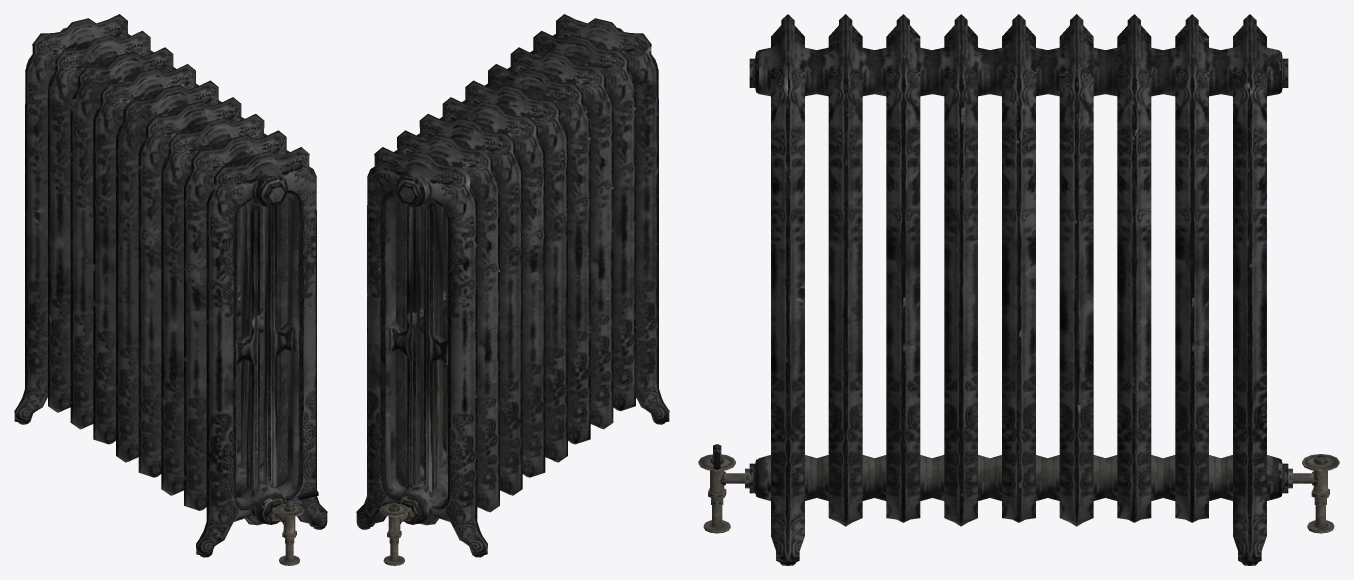
The model's file is SM_Radiator.fbx.
3 renders of one model, left to right at view 1: azimuth 30°, elevation 25°; view 2: azimuth 150°, elevation 25°; view 3: azimuth 270°, elevation 25°, orthographic. The views are drawn at different scales.
Parts seen in each view (by area): view 1: SM_Radiator; view 2: SM_Radiator; view 3: SM_Radiator.
Part boxes in pixels (left/top/right/bottom): SM_Radiator: left=14, top=14, right=327, bottom=565; SM_Radiator: left=356, top=14, right=669, bottom=565; SM_Radiator: left=698, top=14, right=1339, bottom=565.
Bounding box in the file's own units: 33.89 × 95.51 × 112.
Materials: 1 (1 with a texture image).
